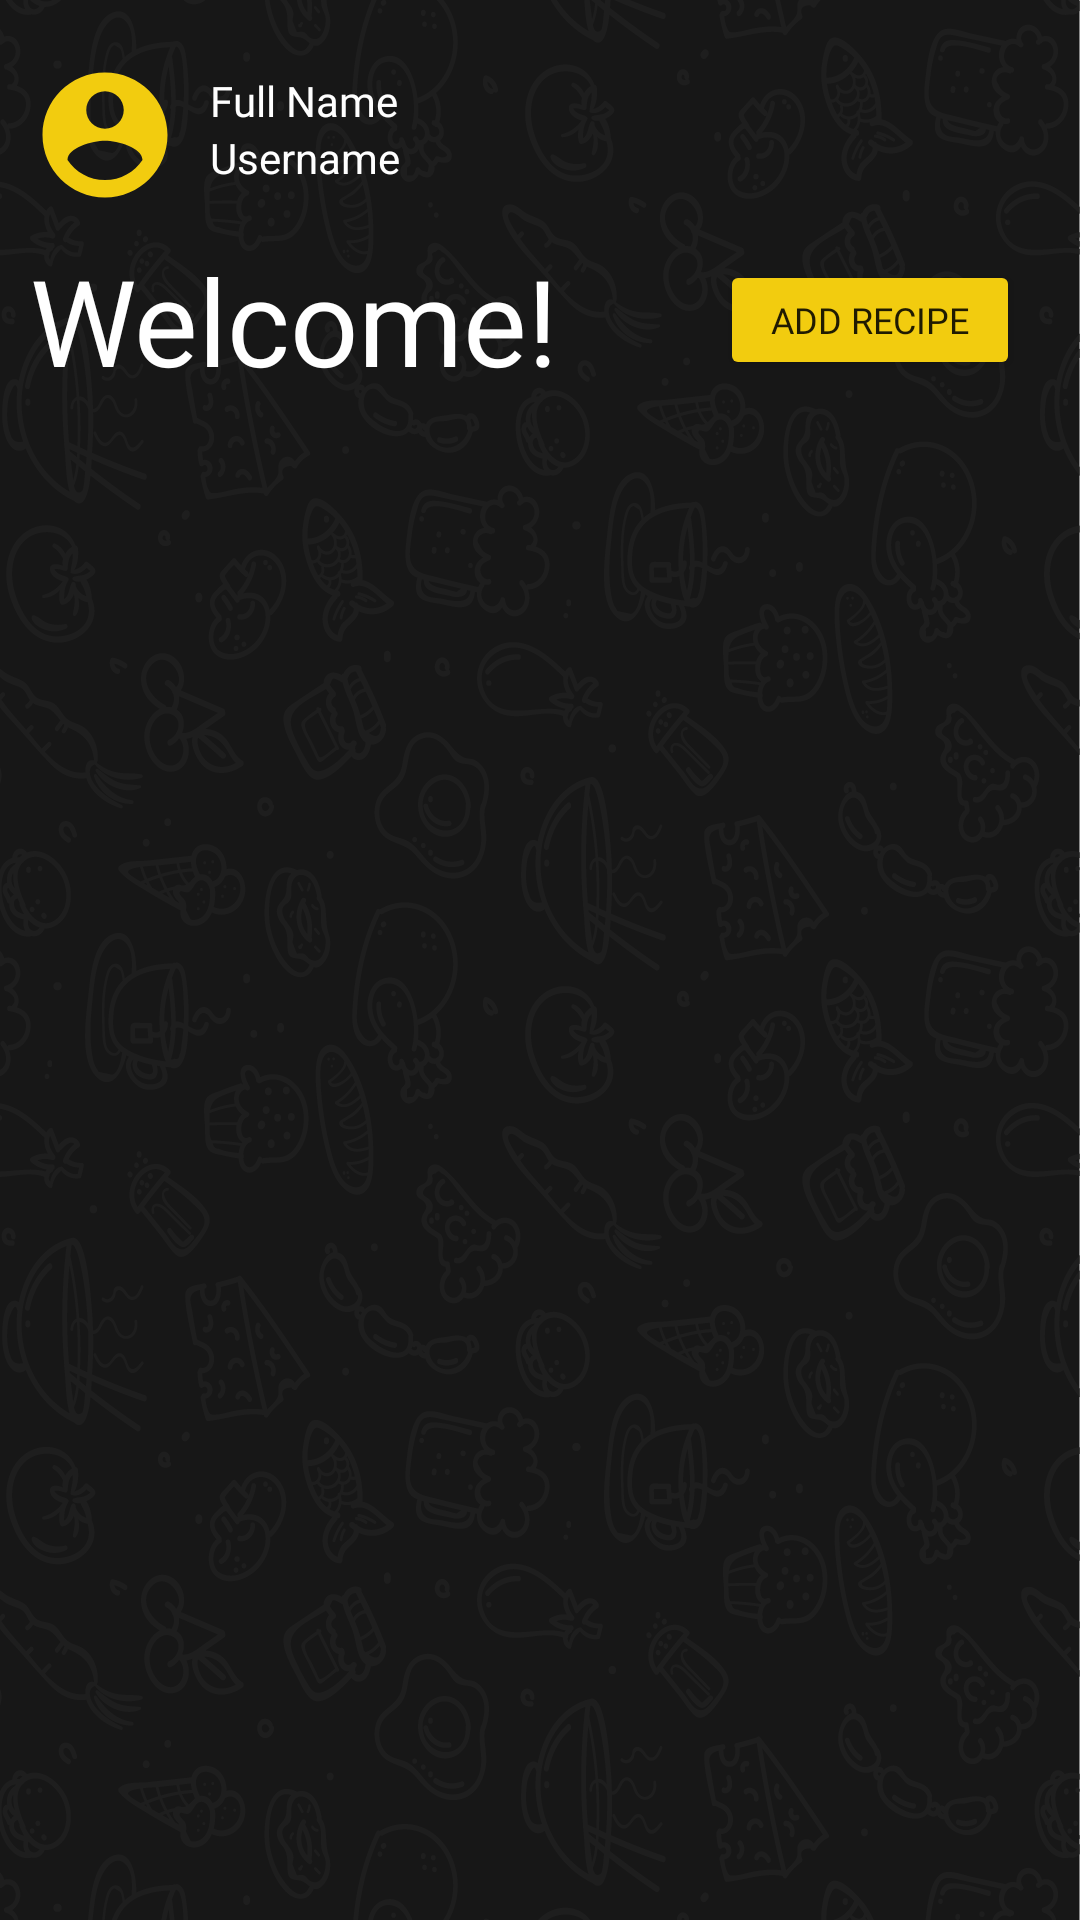

Icons on this 1080*1920 Android screen, each with its box as [x1,y1,x2,y2]:
account: [42,72,168,198]
